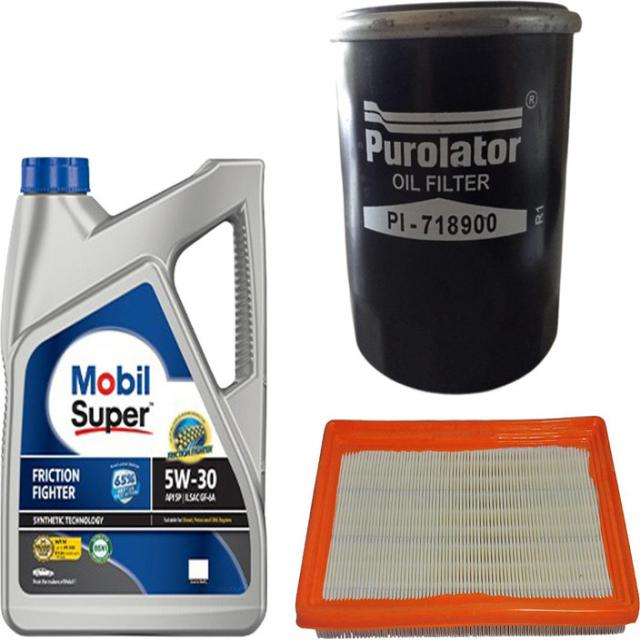air_filter: (294, 405, 640, 640)
motor_oil: (0, 147, 272, 640)
oil_filter: (327, 0, 582, 399)
